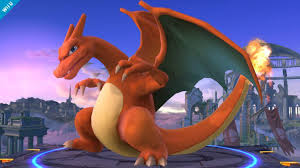charizard: (53, 1, 269, 166)
